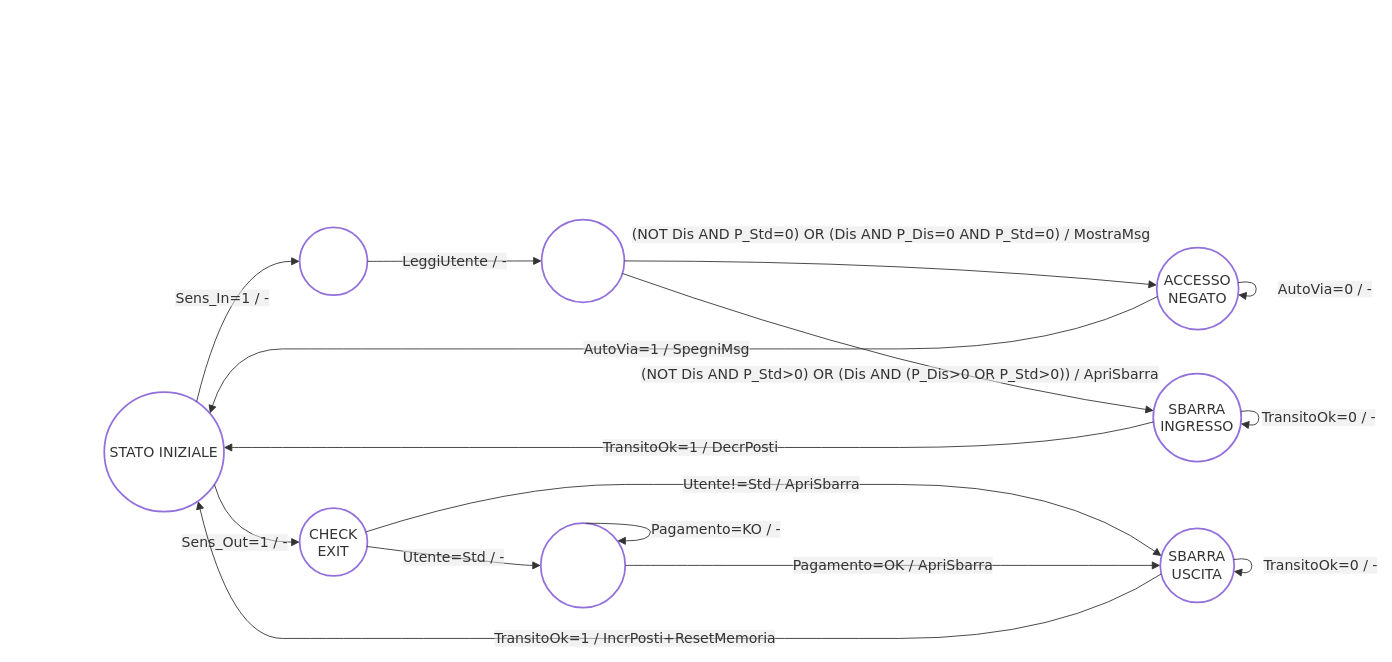
The diagram is 1392 pixels wide and 662 high, and some of its shapes have lost their labels. The shapes that lost their labels are listed below. From the top down, each one's box as (x1, y1, x2, y2) in pixels, then its label:
(298, 226, 368, 296): CHECK ENTRY
(540, 218, 625, 303): VERIFICA POSTI
(539, 522, 626, 608): CALCOLO TARIFFA
